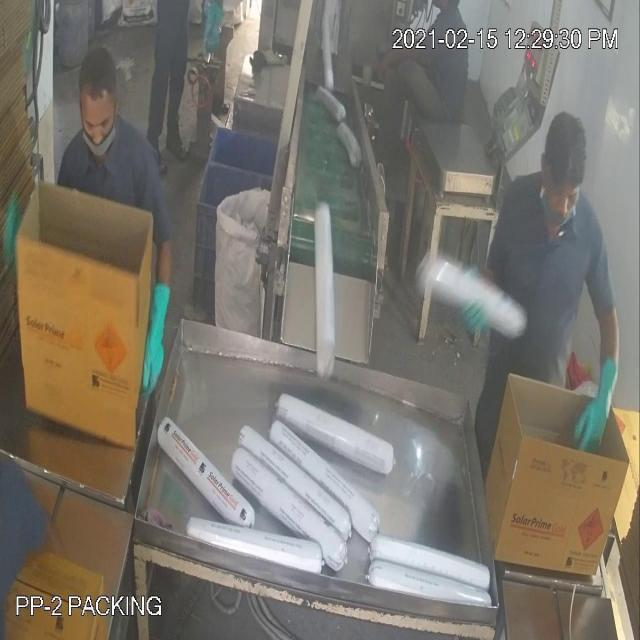Gloves: (51, 114, 600, 404)
